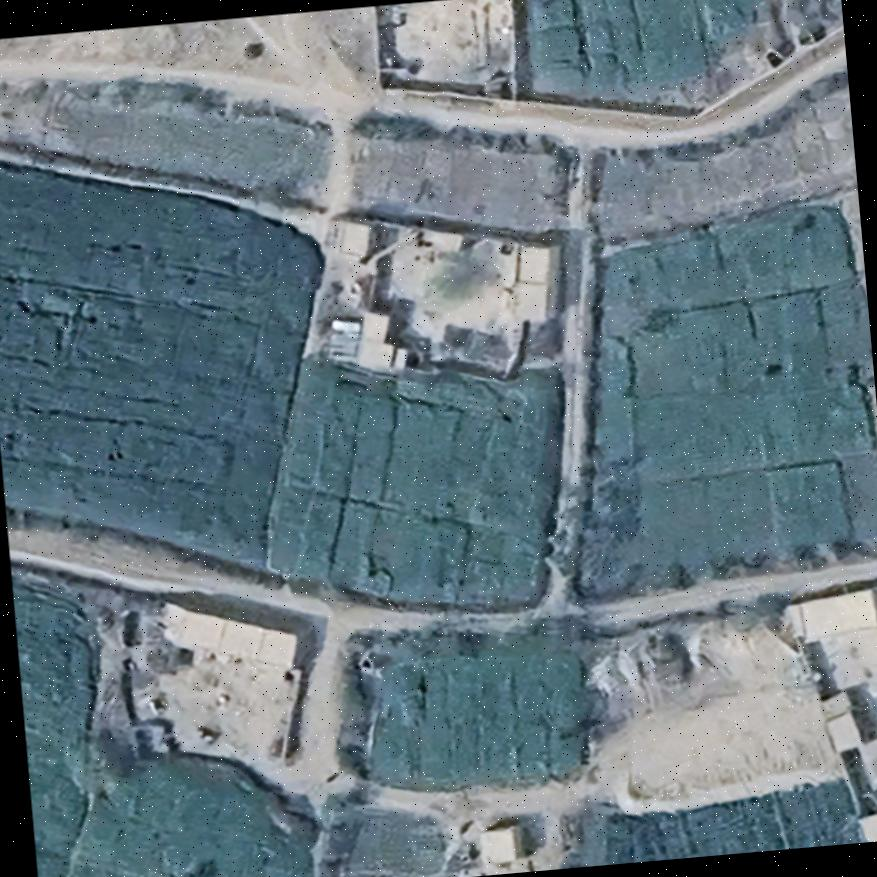Solarpanel: (320, 316, 363, 362)
